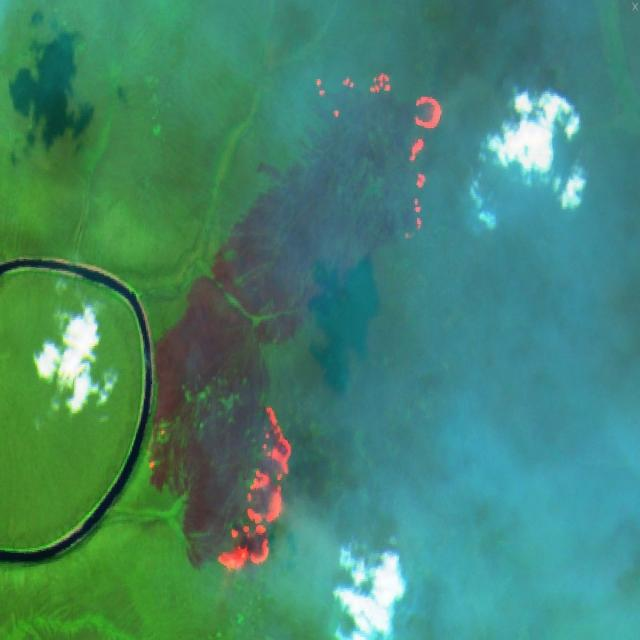fire: (148, 400, 298, 582), (312, 67, 444, 247)
